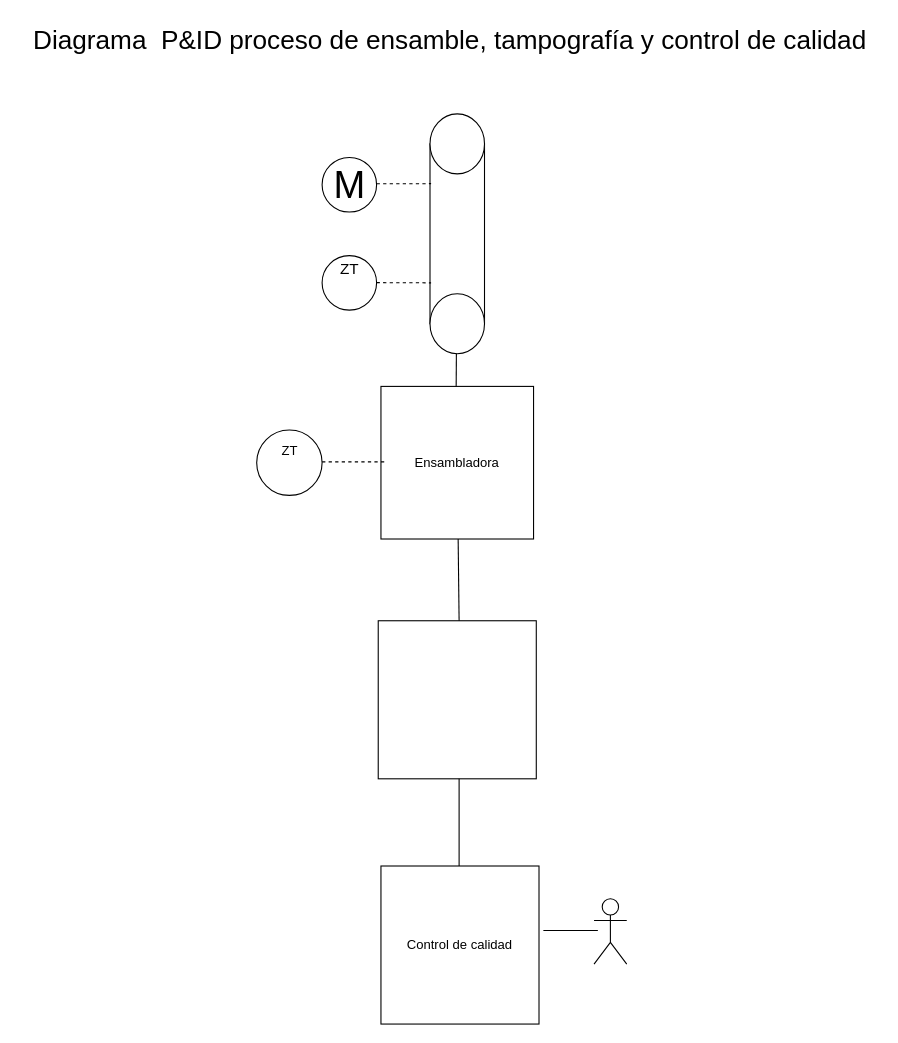
This 898x1043 diagram has some shape labels left out. Each missing label, with the centre of its shape:
Actor: the point at 610,931
Tampografía: the point at 456,699
